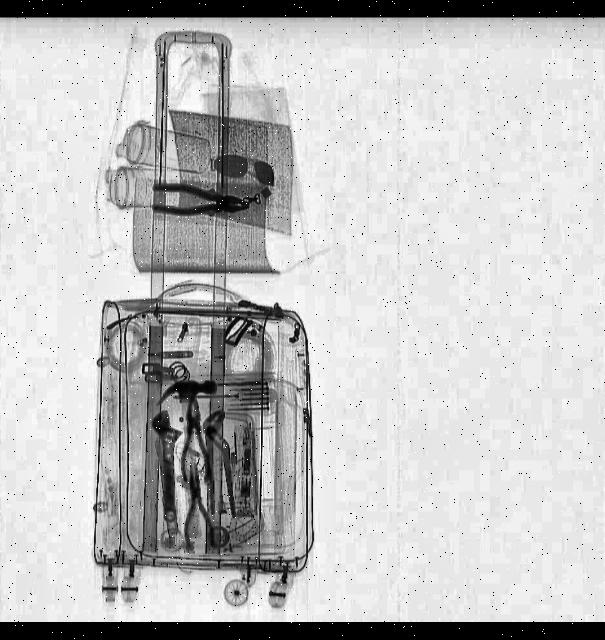Pliers: (149, 180, 248, 218), (179, 462, 216, 549), (179, 399, 210, 482)
Wrench: (152, 409, 186, 522)
